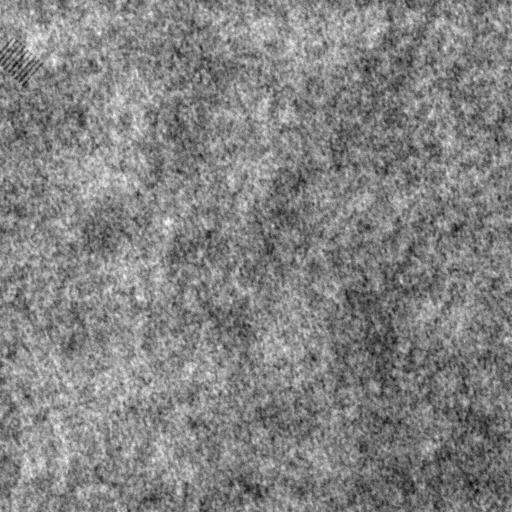DefectTypeB: (1, 37, 44, 87)
